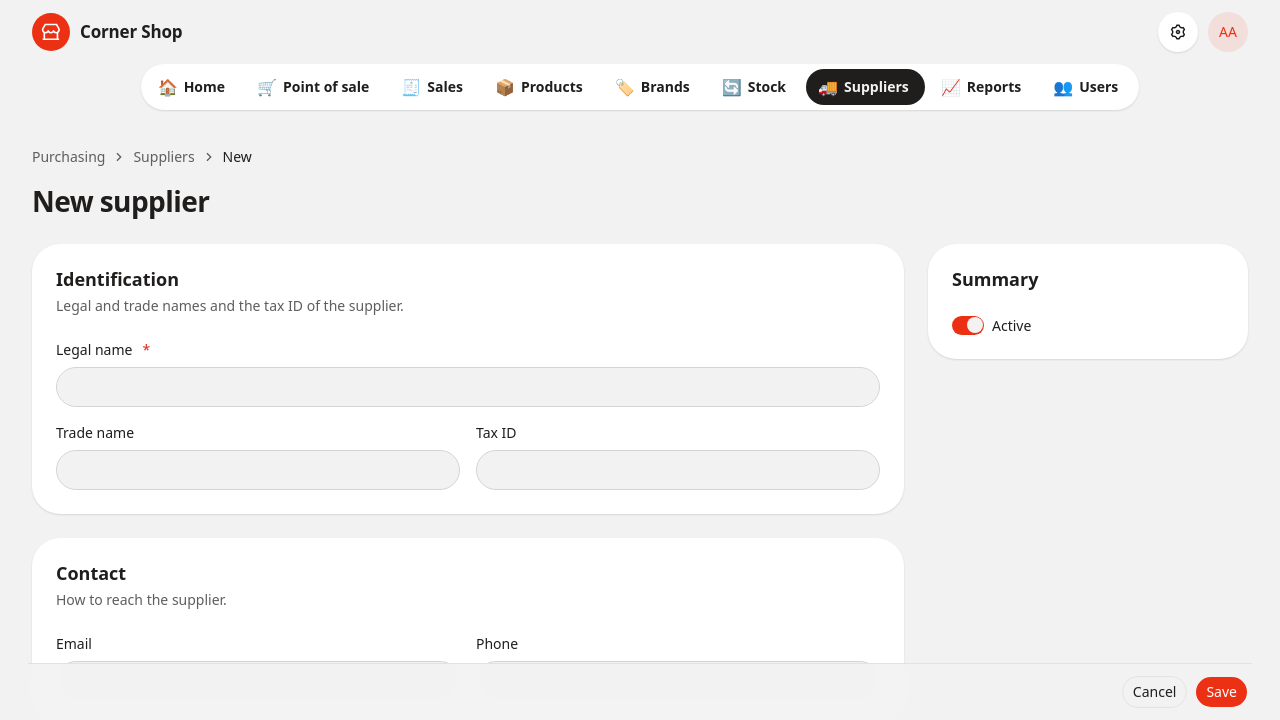
Test: SupplierFormPage › shows a server error on the Active switch
In the field labelled "Legal name": (468, 387) [56,367,880,407], type "Acme Ltda"
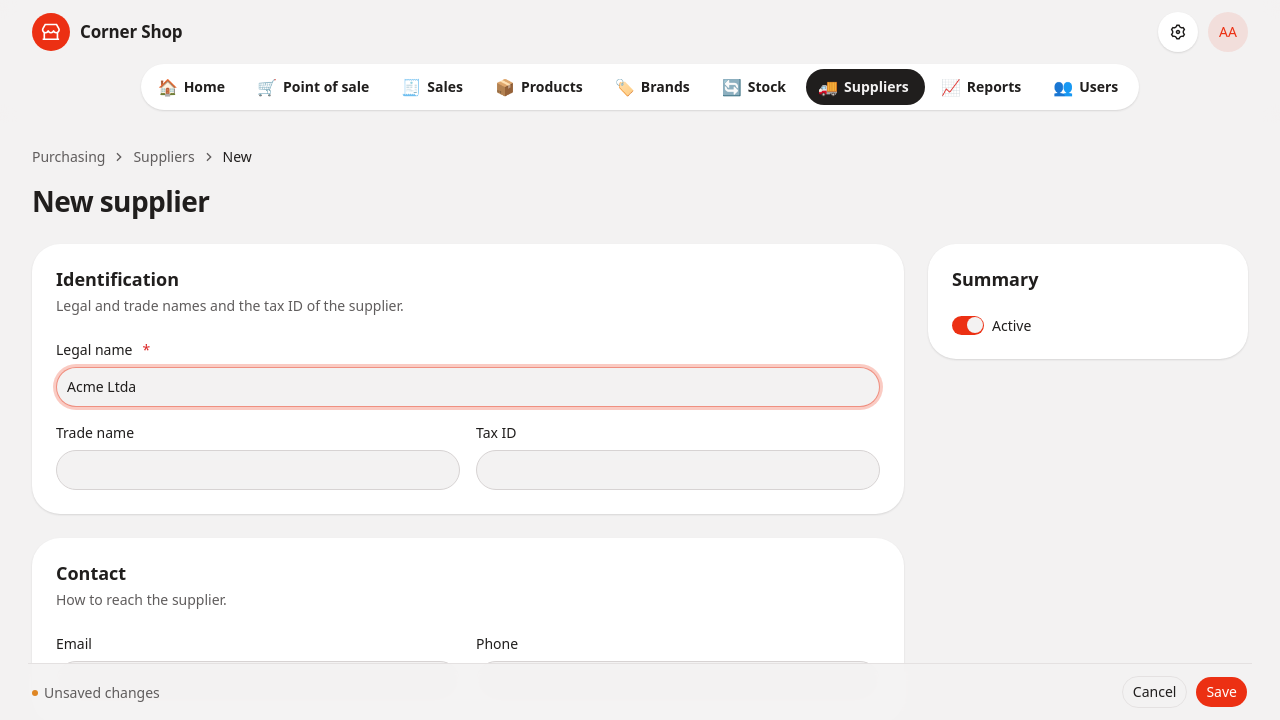
Click the button "Save": (1222, 692) [1195,676,1248,708]
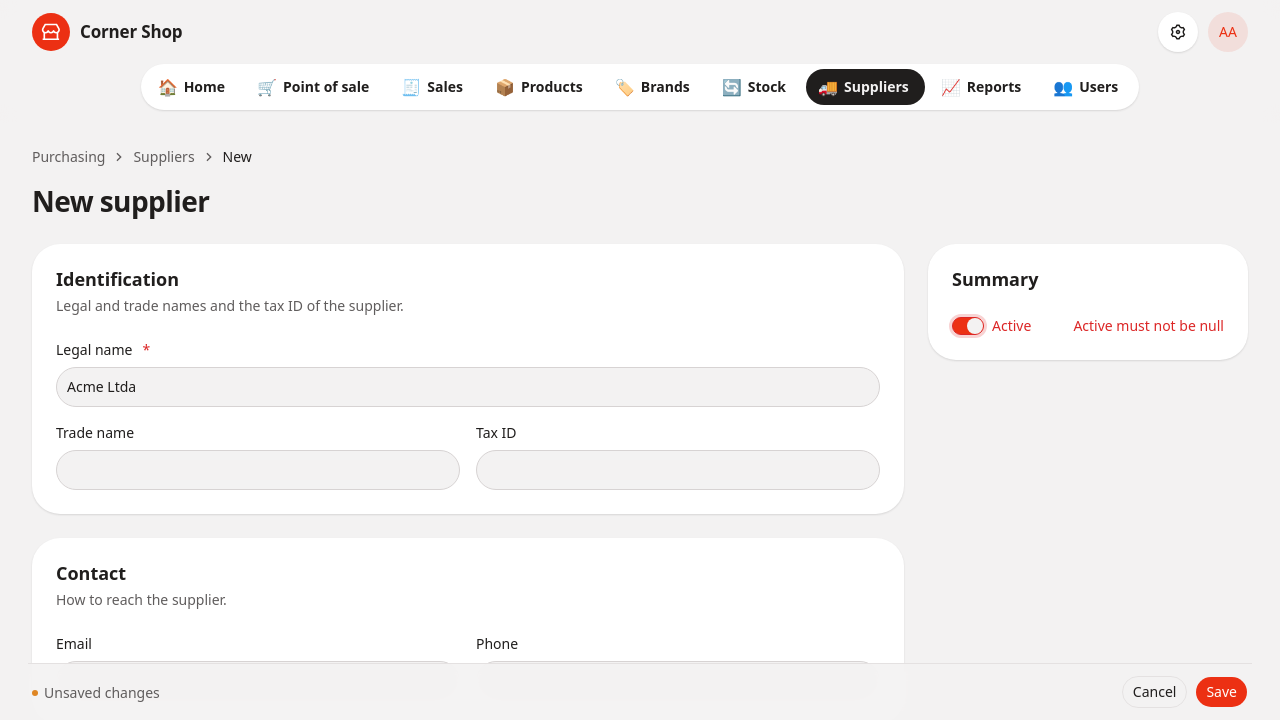
Check: the text "Active must not be null" is shown, box [1073,316,1224,336]
